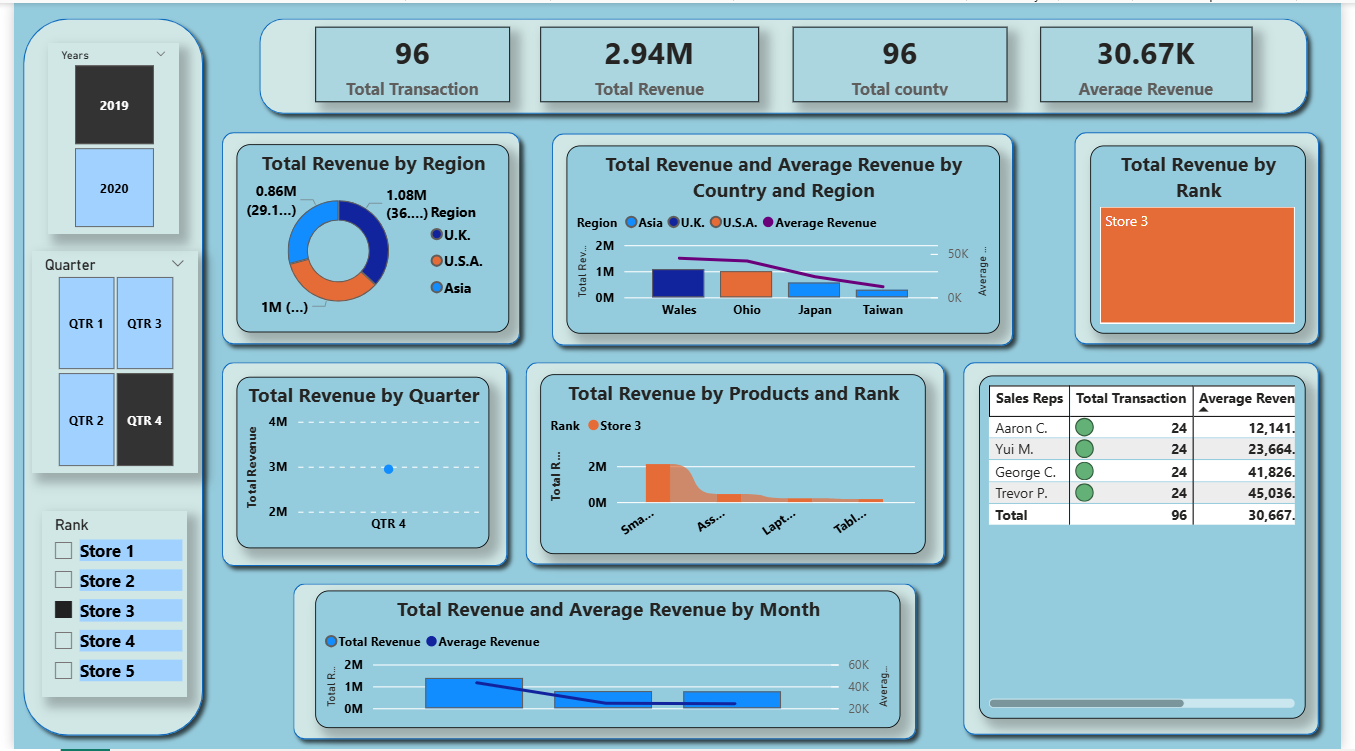

This screenshot's page, from the dashboard's own definition file:
{"tool":"powerbi","page":{"name":"Page 1","canvas":[1280,720],"ordinal":0},"visuals":[{"type":"shape","box":[0,5.4,191.4,710.1],"z":0},{"type":"shape","box":[191.4,338.1,293.3,214.5],"z":1000},{"type":"shape","box":[227.8,5.5,1029.2,109.8],"z":2000},{"type":"card","fields":{"Values":["Measure.Total Transaction"]},"box":[290.9,23.3,188,72.7],"z":3000},{"type":"card","fields":{"Values":["Measure.Total Revenue"]},"box":[507.7,23.3,211.3,72.7],"z":4000},{"type":"card","fields":{"Values":["Measure.Total county"]},"box":[752,23.3,207.2,72.7],"z":5000},{"type":"card","fields":{"Values":["Measure.Average Revenue"]},"box":[990.7,23.3,204.5,72.7],"z":6000},{"type":"shape","box":[191.4,115.4,305.5,222.7],"z":7000},{"type":"donutChart","fields":{"Y":["Measure.Total Revenue"],"Category":["Sheet1.Region"]},"box":[214.5,135.8,263.4,181.9],"z":8000},{"type":"shape","box":[510.5,116.8,463,222.7],"z":9000},{"type":"lineStackedColumnComboChart","fields":{"Category":["Sheet1.Country"],"Y":["Measure.Total Revenue"],"Y2":["Measure.Average Revenue"],"Series":["Sheet1.Region"]},"box":[533.6,137.1,418.2,181.9],"z":10000},{"type":"shape","box":[1014.2,115.4,253.9,222.7],"z":11000},{"type":"areaChart","fields":{"Y":["Measure.Total Revenue"],"Category":["Sheet1.Quarter"]},"box":[214.5,361.1,244.4,165.6],"z":12000},{"type":"treemap","fields":{"Values":["Measure.Total Revenue"],"Group":["Sheet1.Rank"]},"box":[1038.6,137.1,207.7,181.9],"z":13000},{"type":"shape","box":[484.7,338.1,422.2,213.2],"z":14000},{"type":"ribbonChart","fields":{"Category":["Sheet1.Products"],"Y":["Measure.Total Revenue"],"Series":["Sheet1.Rank"]},"box":[507.8,358.4,372,173.8],"z":15000},{"type":"shape","box":[906.9,338.1,361.1,377.4],"z":16000},{"type":"pivotTable","fields":{"Rows":["Sheet1.Sales Reps"],"Values":["Measure.Total Transaction","Measure.Average Revenue","Measure.Total Revenue"]},"box":[931.4,359.8,315,331.3],"z":17000},{"type":"shape","box":[260.7,551.2,619.1,168.4],"z":18000},{"type":"lineStackedColumnComboChart","fields":{"Y":["Measure.Total Revenue"],"Y2":["Measure.Average Revenue"],"Category":["Sheet1.Month"]},"box":[290.5,567.5,564.8,133.1],"z":19000},{"type":"slicer","fields":{"Values":["Sheet1.Years"]},"box":[32.6,38.6,126.7,184.6],"z":20000},{"type":"slicer","fields":{"Values":["Sheet1.Quarter"]},"box":[16.9,238.9,160.5,214.7],"z":21000},{"type":"slicer","fields":{"Values":["Sheet1.Rank"]},"box":[26.5,489.8,141.2,179.8],"z":22000}]}

Visuals, with their boxes in screenshot pixels (x1, y1, x2, y2), scaled from the page's 1280x720 canvas onto the 1355x751 screenshot:
shape: box=[0, 6, 203, 746]
shape: box=[203, 353, 513, 576]
shape: box=[241, 6, 1331, 120]
card - Measure.Total Transaction: box=[308, 24, 507, 100]
card - Measure.Total Revenue: box=[537, 24, 761, 100]
card - Measure.Total county: box=[796, 24, 1015, 100]
card - Measure.Average Revenue: box=[1049, 24, 1265, 100]
shape: box=[203, 120, 526, 353]
donutChart - Measure.Total Revenue x Sheet1.Region: box=[227, 142, 506, 331]
shape: box=[540, 122, 1031, 354]
lineStackedColumnComboChart - Sheet1.Country x Measure.Total Revenue: box=[565, 143, 1008, 333]
shape: box=[1074, 120, 1342, 353]
areaChart - Measure.Total Revenue x Sheet1.Quarter: box=[227, 377, 486, 549]
treemap - Measure.Total Revenue x Sheet1.Rank: box=[1099, 143, 1319, 333]
shape: box=[513, 353, 960, 575]
ribbonChart - Sheet1.Products x Measure.Total Revenue: box=[538, 374, 931, 555]
shape: box=[960, 353, 1342, 746]
pivotTable - Sheet1.Sales Reps x Measure.Total Transaction: box=[986, 375, 1319, 721]
shape: box=[276, 575, 931, 750]
lineStackedColumnComboChart - Measure.Total Revenue x Measure.Average Revenue: box=[308, 592, 905, 731]
slicer - Sheet1.Years: box=[35, 40, 169, 233]
slicer - Sheet1.Quarter: box=[18, 249, 188, 473]
slicer - Sheet1.Rank: box=[28, 511, 178, 698]
